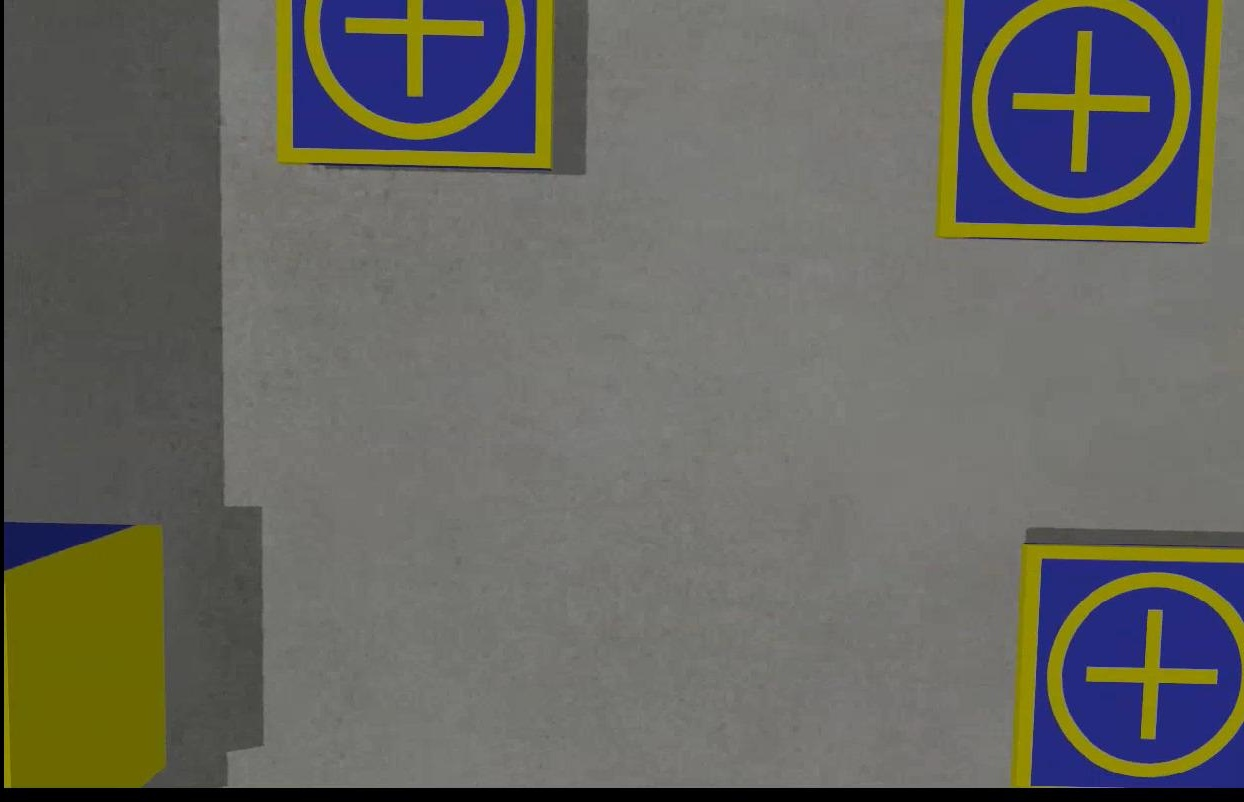small_base: (933, 1, 1222, 245), (1011, 543, 1242, 788), (273, 1, 557, 167)
